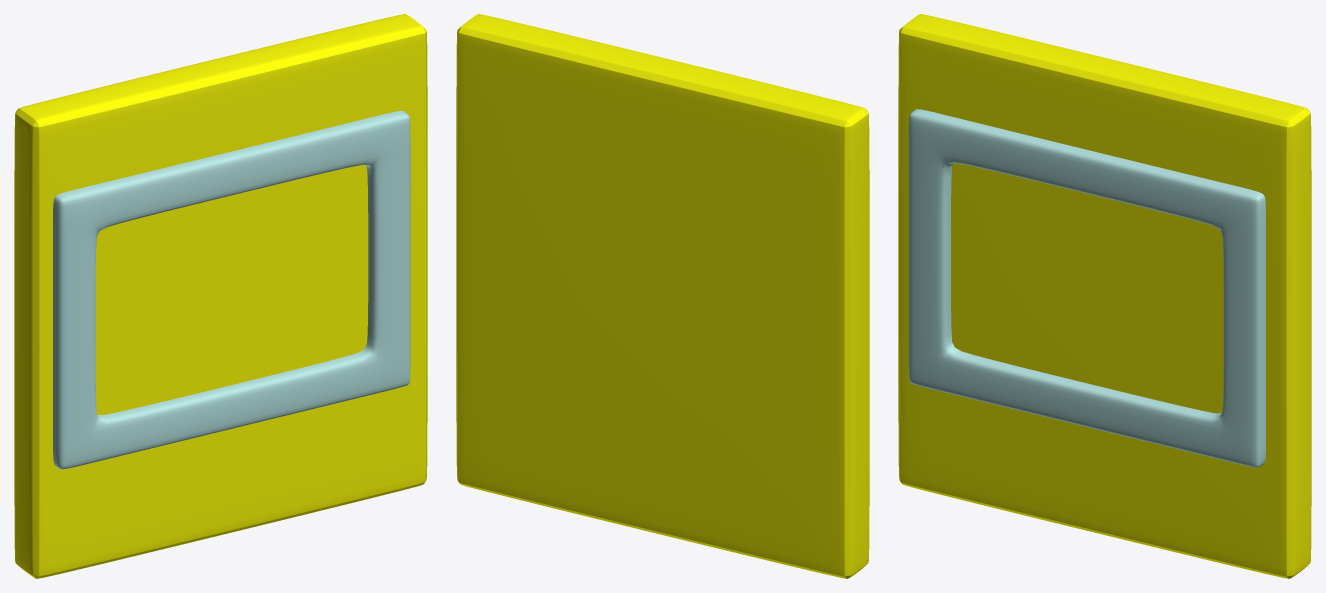
3 views of the same model, side by side, from view 1: azimuth 30°, elevation 25°; view 2: azimuth 150°, elevation 25°; view 3: azimuth 330°, elevation 25° (orthographic).
Parts seen in each view (by area): view 1: polySurface143778; view 2: polySurface143778; view 3: polySurface143778.
Part boxes in pixels (x1,y1,x2,y2): polySurface143778: (14,14,427,578); polySurface143778: (456,14,869,578); polySurface143778: (898,14,1311,578).
Bounding box in the file's own units: 0.8996 × 0.9995 × 0.1266.
